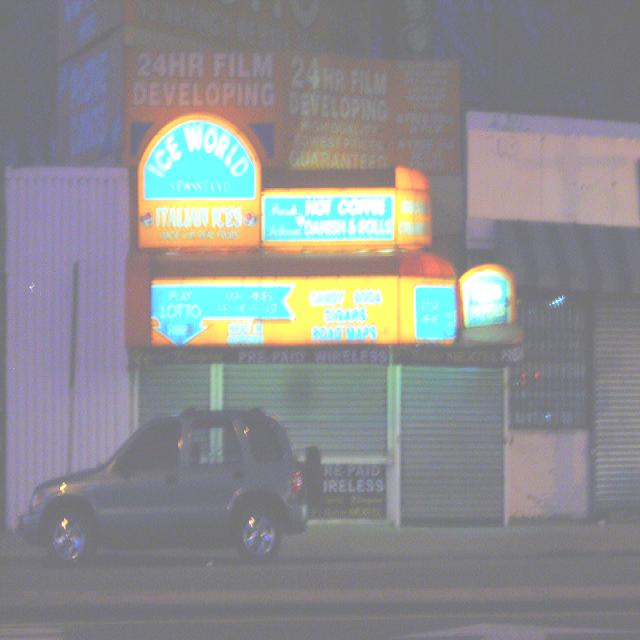Car: (17, 409, 314, 562)
